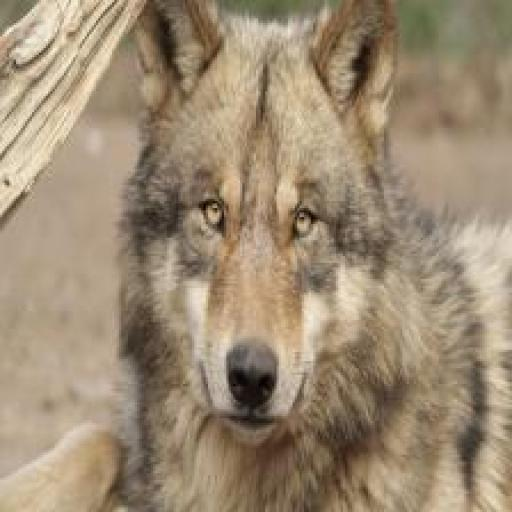wolf: (105, 0, 512, 512)
